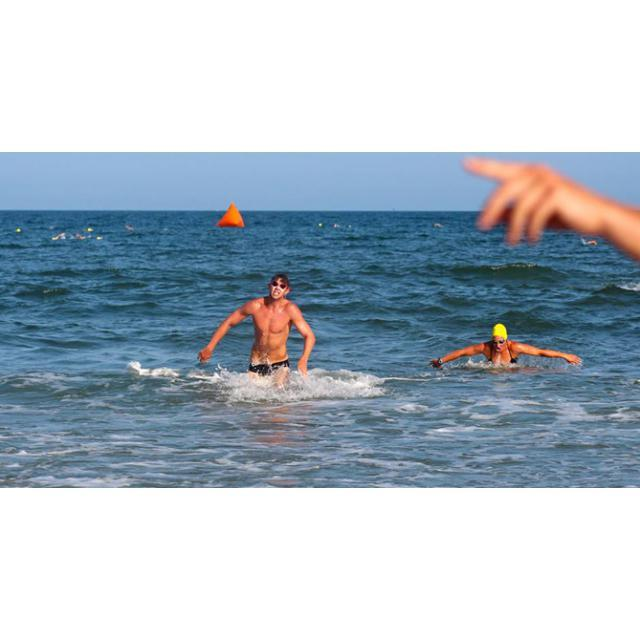human: (430, 322, 584, 372)
